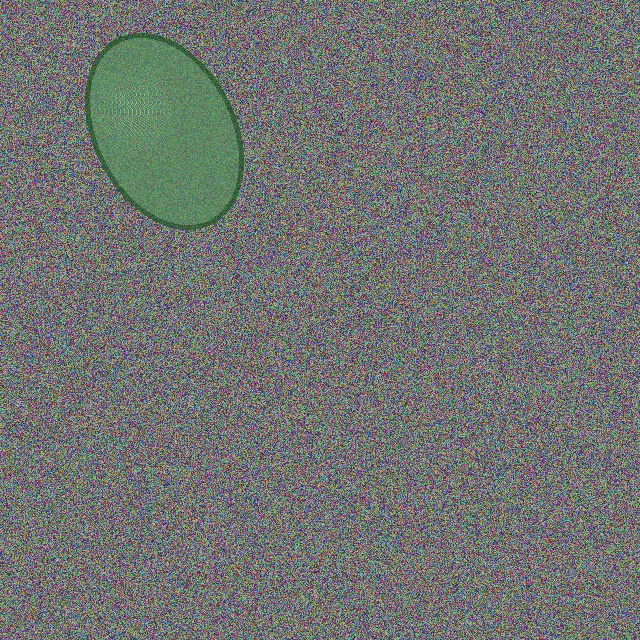lens: (88, 35, 240, 227)
